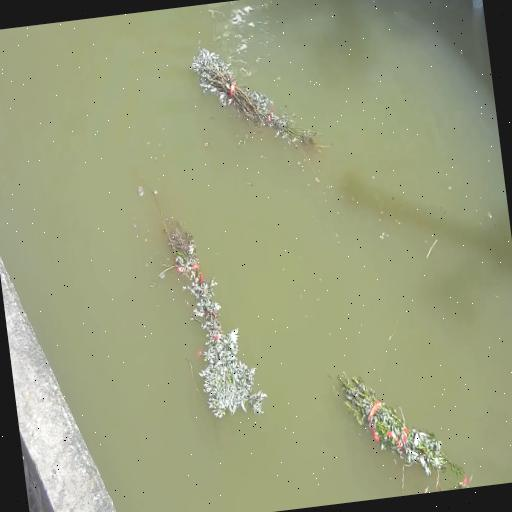twig: (150, 178, 272, 428), (186, 30, 338, 168), (334, 353, 468, 502)
